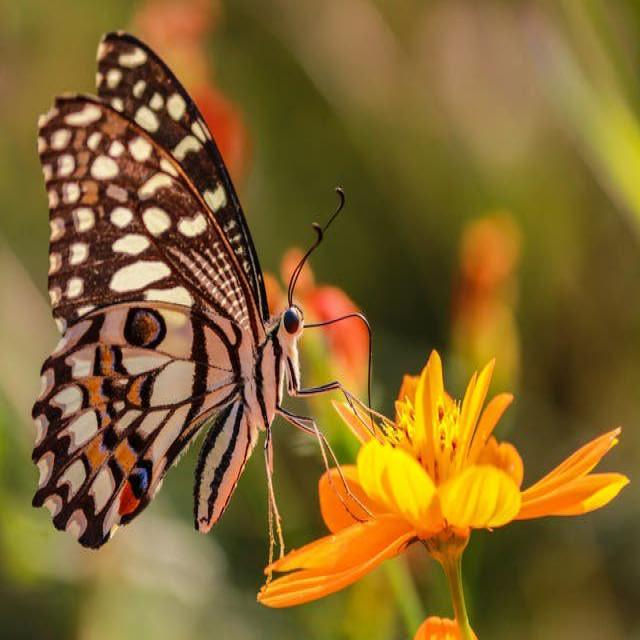butterfly: (29, 78, 292, 537)
